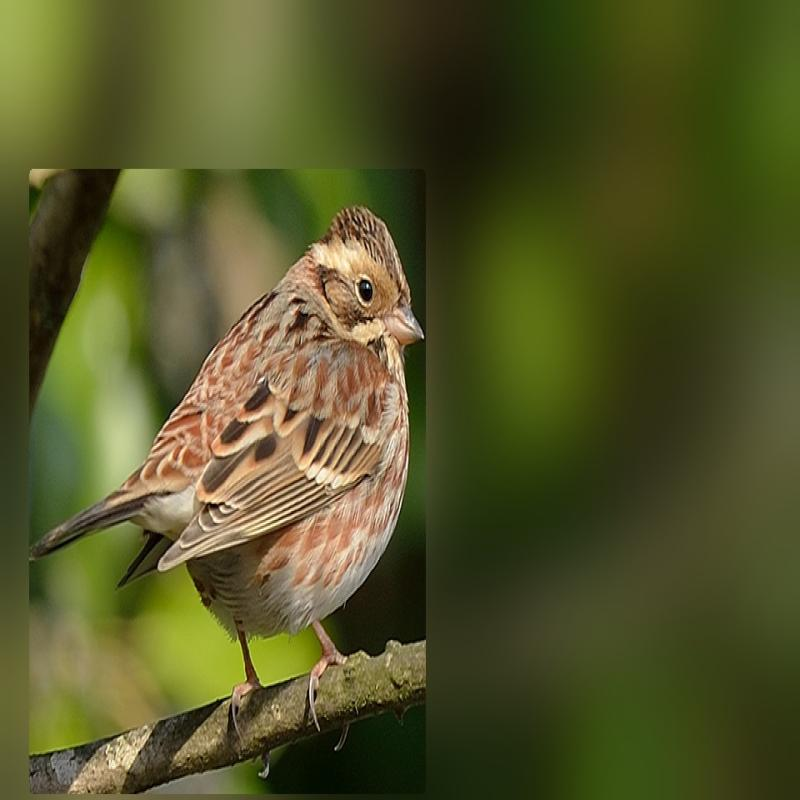rustic bunting: (31, 172, 422, 800)
